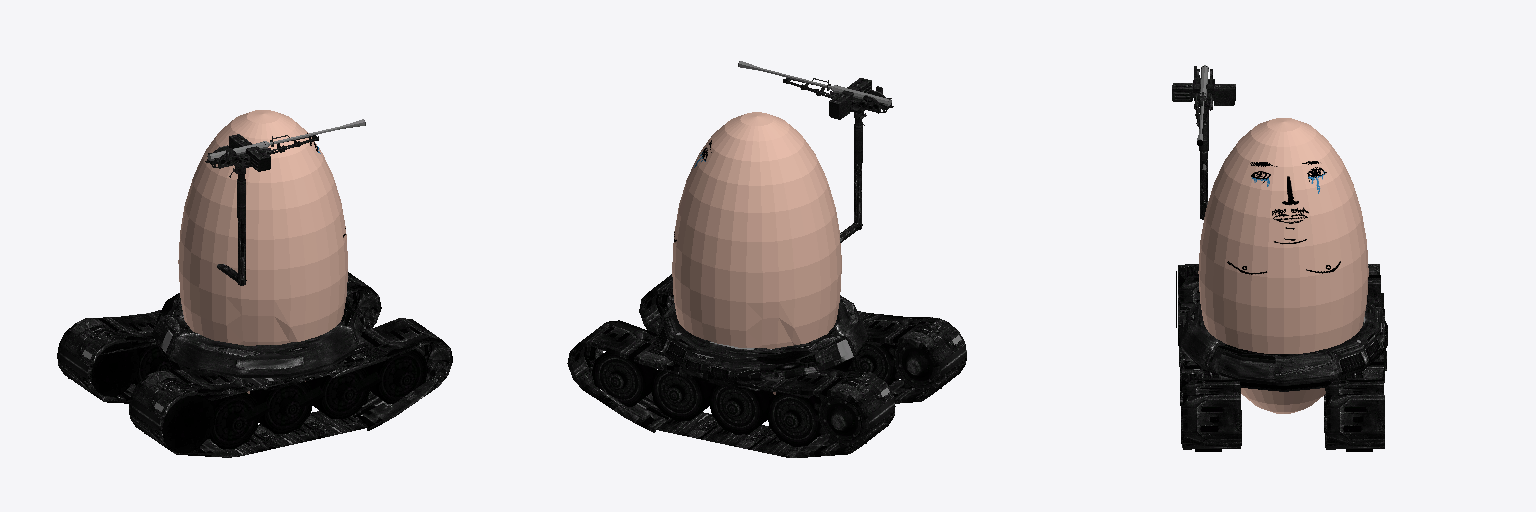
3 renders of one model, left to right at view 1: azimuth 30°, elevation 25°; view 2: azimuth 150°, elevation 25°; view 3: azimuth 270°, elevation 25°, orthographic.
Visible parts, largest first — view 1: Sphere, Track_Left_Object_1.001, Wheels_Left_Object_3.001, Torus, Track_Left_Object_1, turret_Turret_Object_1.001, Wheels_Left_Object_3; view 2: Sphere, Track_Left_Object_1, Wheels_Left_Object_3, Torus, Track_Left_Object_1.001, turret_Turret_Object_1.001, Wheels_Left_Object_3.001; view 3: Sphere, Torus, Track_Left_Object_1.001, Track_Left_Object_1, turret_Turret_Object_1.001.
Part boxes in pixels (bbox=[...]): Sphere: bbox=[178, 110, 347, 393]; Track_Left_Object_1.001: bbox=[129, 318, 452, 457]; Wheels_Left_Object_3.001: bbox=[138, 349, 427, 452]; Torus: bbox=[152, 293, 363, 382]; Track_Left_Object_1: bbox=[57, 272, 381, 403]; turret_Turret_Object_1.001: bbox=[205, 119, 365, 285]; Wheels_Left_Object_3: bbox=[63, 299, 349, 396]; Sphere: bbox=[672, 112, 841, 394]; Track_Left_Object_1: bbox=[567, 320, 895, 457]; Wheels_Left_Object_3: bbox=[592, 352, 872, 446]; Torus: bbox=[656, 295, 867, 388]; Track_Left_Object_1.001: bbox=[639, 274, 966, 403]; turret_Turret_Object_1.001: bbox=[738, 61, 893, 242]; Wheels_Left_Object_3.001: bbox=[670, 303, 947, 391]; Sphere: bbox=[1198, 118, 1368, 413]; Torus: bbox=[1180, 300, 1387, 391]; Track_Left_Object_1.001: bbox=[1178, 264, 1241, 449]; Track_Left_Object_1: bbox=[1324, 264, 1386, 449]; turret_Turret_Object_1.001: bbox=[1172, 65, 1235, 219].
Bounding box in the file's own units: 4.04 × 4.01 × 2.53.
Materials: 3 (2 with a texture image).